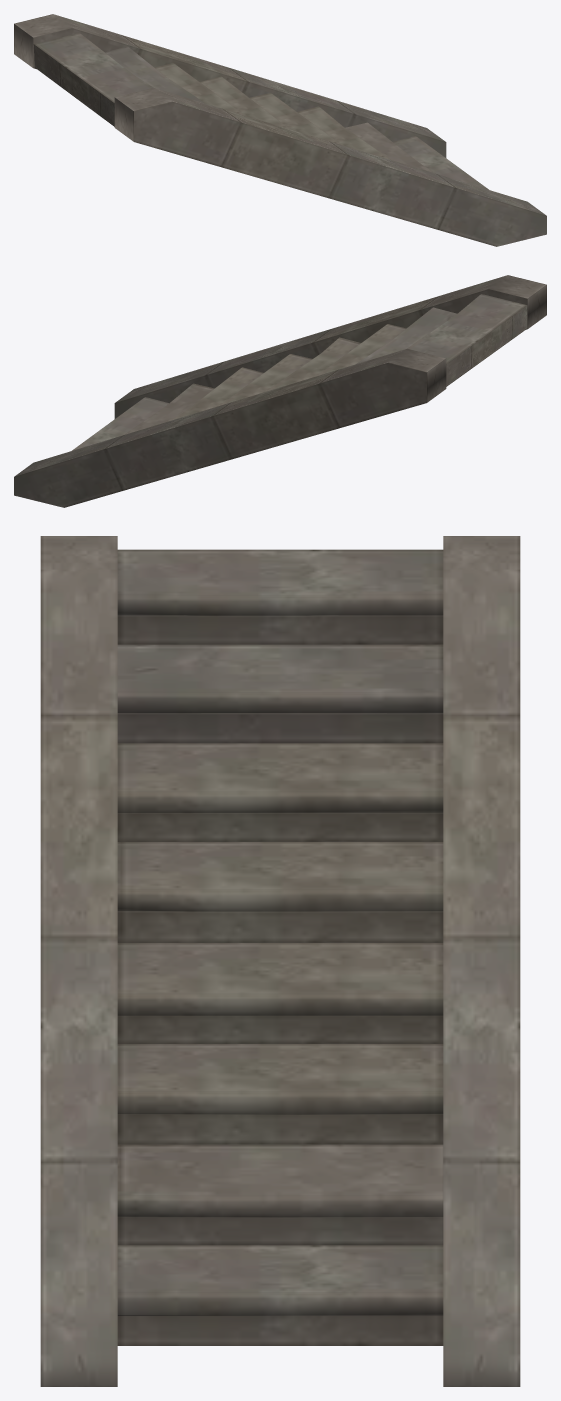
File: foundation.steps.crypt.glb
3 renders of one model, top to bottom at view 1: azimuth 30°, elevation 25°; view 2: azimuth 150°, elevation 25°; view 3: azimuth 270°, elevation 25°, orthographic. The views are drawn at different scales.
Parts seen in each view (by area): view 1: model; view 2: model; view 3: model.
Part boxes in pixels (bbox=[...]): model: bbox=[14, 14, 546, 246]; model: bbox=[14, 275, 546, 507]; model: bbox=[40, 536, 520, 1386].
Size of the model in its own units: 3 by 1.55 by 1.51.
1 material, 1 textured.
